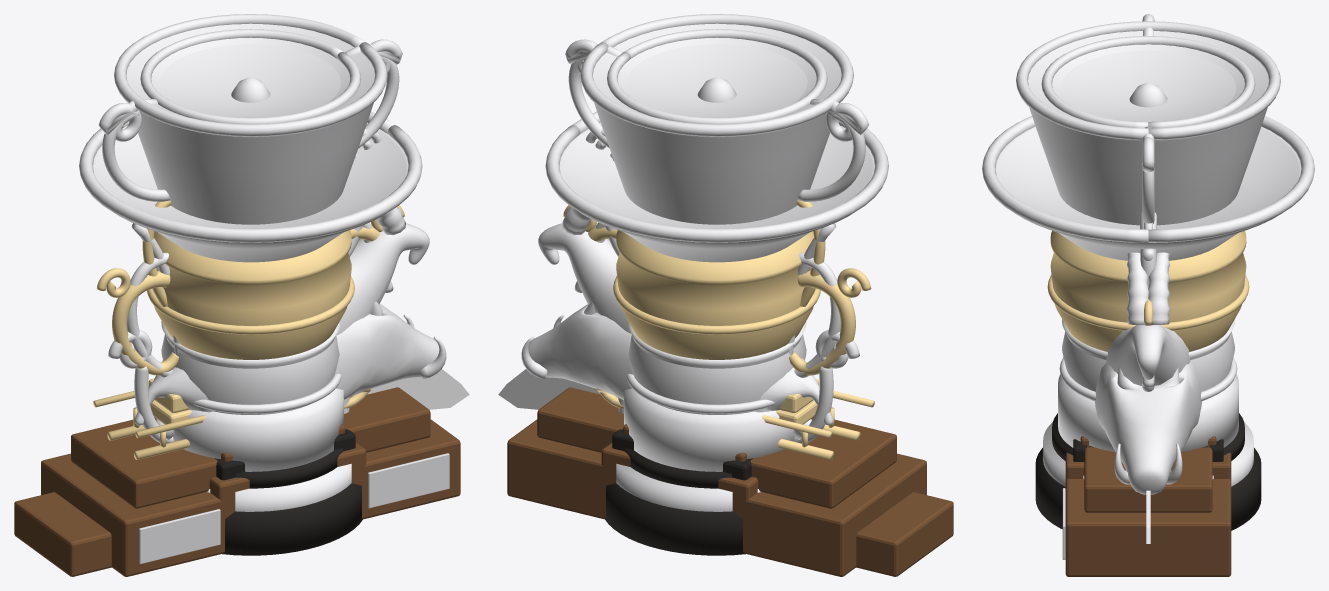
Rendered from trophies.glb.
3 renders of one model, left to right at view 1: azimuth 30°, elevation 25°; view 2: azimuth 150°, elevation 25°; view 3: azimuth 270°, elevation 25°, orthographic. The views are drawn at different scales.
Parts seen in each view (by area): view 1: trophy_flared, trophy_brabazon, trophy_cresta, trophy_curzon, trophy_grand-national, trophy_coppa-italia, trophy_morgan, trophy_urn, trophy_calisch, trophy_cup, trophy_willoughby, trophy_gunter-sachs; view 2: trophy_flared, trophy_brabazon, trophy_cresta, trophy_curzon, trophy_grand-national, trophy_coppa-italia, trophy_morgan, trophy_urn, trophy_calisch, trophy_cup, trophy_willoughby, trophy_gunter-sachs; view 3: trophy_flared, trophy_cresta, trophy_brabazon, trophy_curzon, trophy_coppa-italia, trophy_grand-national, trophy_morgan, trophy_calisch, trophy_urn, trophy_cup.
Part boxes in pixels (bbox=[...]): trophy_flared: bbox=[102, 14, 399, 518]; trophy_brabazon: bbox=[41, 378, 460, 576]; trophy_cresta: bbox=[79, 111, 422, 555]; trophy_curzon: bbox=[96, 205, 404, 375]; trophy_grand-national: bbox=[173, 77, 381, 511]; trophy_coppa-italia: bbox=[14, 301, 446, 576]; trophy_morgan: bbox=[99, 29, 402, 480]; trophy_urn: bbox=[127, 222, 371, 414]; trophy_calisch: bbox=[336, 207, 429, 413]; trophy_cup: bbox=[108, 281, 393, 443]; trophy_willoughby: bbox=[156, 369, 469, 439]; trophy_gunter-sachs: bbox=[142, 200, 171, 306]; trophy_flared: bbox=[568, 14, 865, 516]; trophy_brabazon: bbox=[507, 379, 926, 576]; trophy_cresta: bbox=[545, 111, 888, 555]; trophy_curzon: bbox=[563, 205, 871, 375]; trophy_grand-national: bbox=[586, 77, 794, 511]; trophy_coppa-italia: bbox=[521, 302, 953, 576]; trophy_morgan: bbox=[565, 29, 868, 480]; trophy_urn: bbox=[596, 222, 840, 414]; trophy_calisch: bbox=[538, 207, 630, 413]; trophy_cup: bbox=[574, 281, 859, 443]; trophy_willoughby: bbox=[498, 369, 811, 439]; trophy_gunter-sachs: bbox=[796, 200, 825, 306]; trophy_flared: bbox=[1016, 21, 1280, 479]; trophy_cresta: bbox=[982, 116, 1314, 530]; trophy_brabazon: bbox=[1062, 445, 1231, 576]; trophy_curzon: bbox=[1047, 231, 1249, 351]; trophy_coppa-italia: bbox=[1095, 362, 1201, 494]; trophy_grand-national: bbox=[1043, 82, 1253, 486]; trophy_morgan: bbox=[1041, 14, 1255, 461]; trophy_calisch: bbox=[1106, 252, 1190, 385]; trophy_urn: bbox=[1059, 332, 1237, 401]; trophy_cup: bbox=[1062, 319, 1234, 391].
Size of the model in its own units: 0.6337 by 0.6196 by 0.442.
